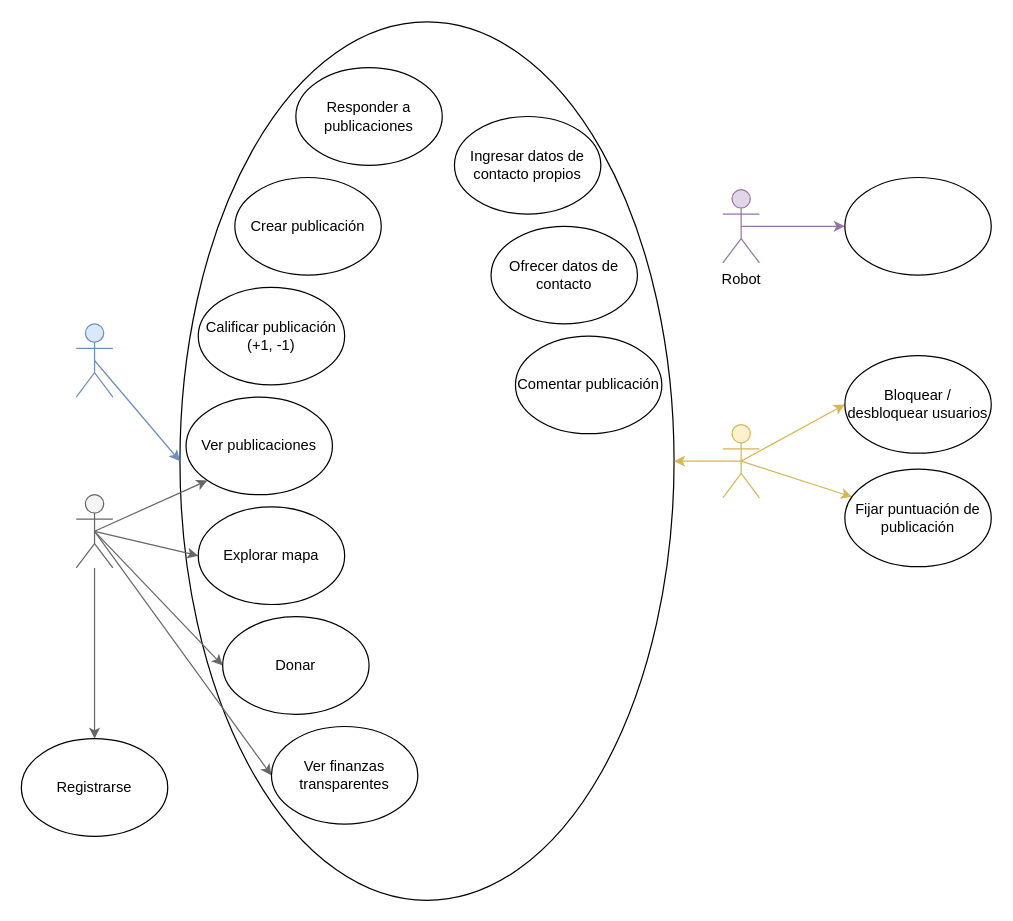
This 1013x921 diagram has some shape labels left out. The box of each missing label's shape, as (x1, y1, x2, y2) in pixels:
Admin: (722, 423, 759, 498)
Anónimo: (75, 493, 113, 568)
Mantener reporte de finanzas actualizado: (844, 176, 991, 275)
Registrado: (75, 323, 113, 397)
